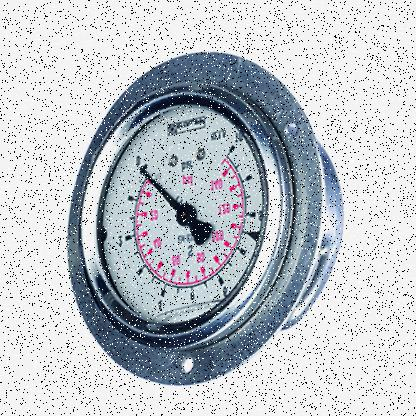needle: (137, 165, 182, 213)
